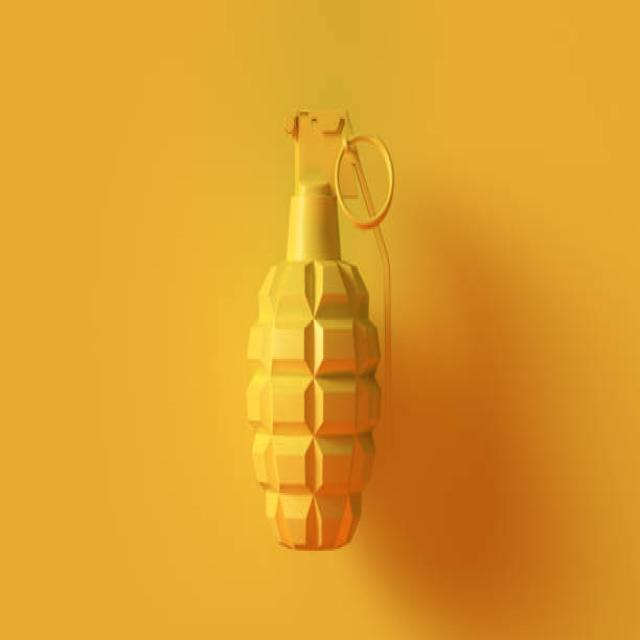grenade: (243, 102, 404, 560)
